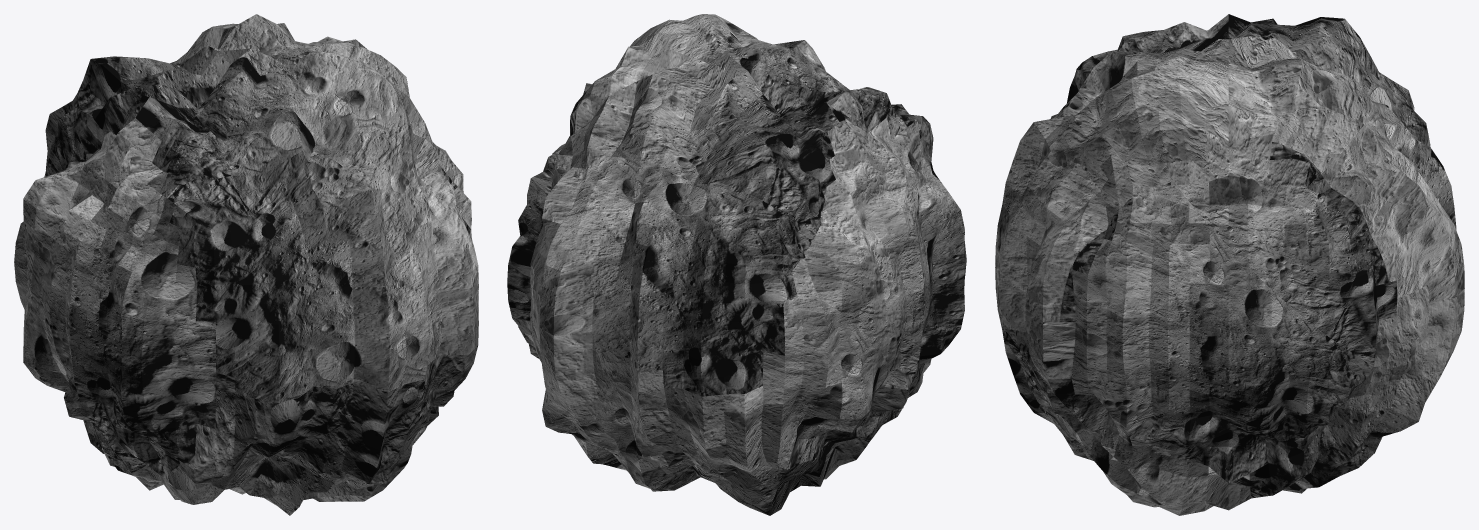
The model's file is asteroid39.obj.
3 renders of one model, left to right at view 1: azimuth 30°, elevation 25°; view 2: azimuth 150°, elevation 25°; view 3: azimuth 270°, elevation 25°, orthographic. The views are drawn at different scales.
Parts seen in each view (by area): view 1: Cube_Cube.002; view 2: Cube_Cube.002; view 3: Cube_Cube.002.
Boxes of the visible parts, <box> form: Cube_Cube.002: <box>14,14,478,515</box>; Cube_Cube.002: <box>507,14,966,515</box>; Cube_Cube.002: <box>995,14,1464,515</box>.
Size of the model in its own units: 1.7 by 1.94 by 1.86.
